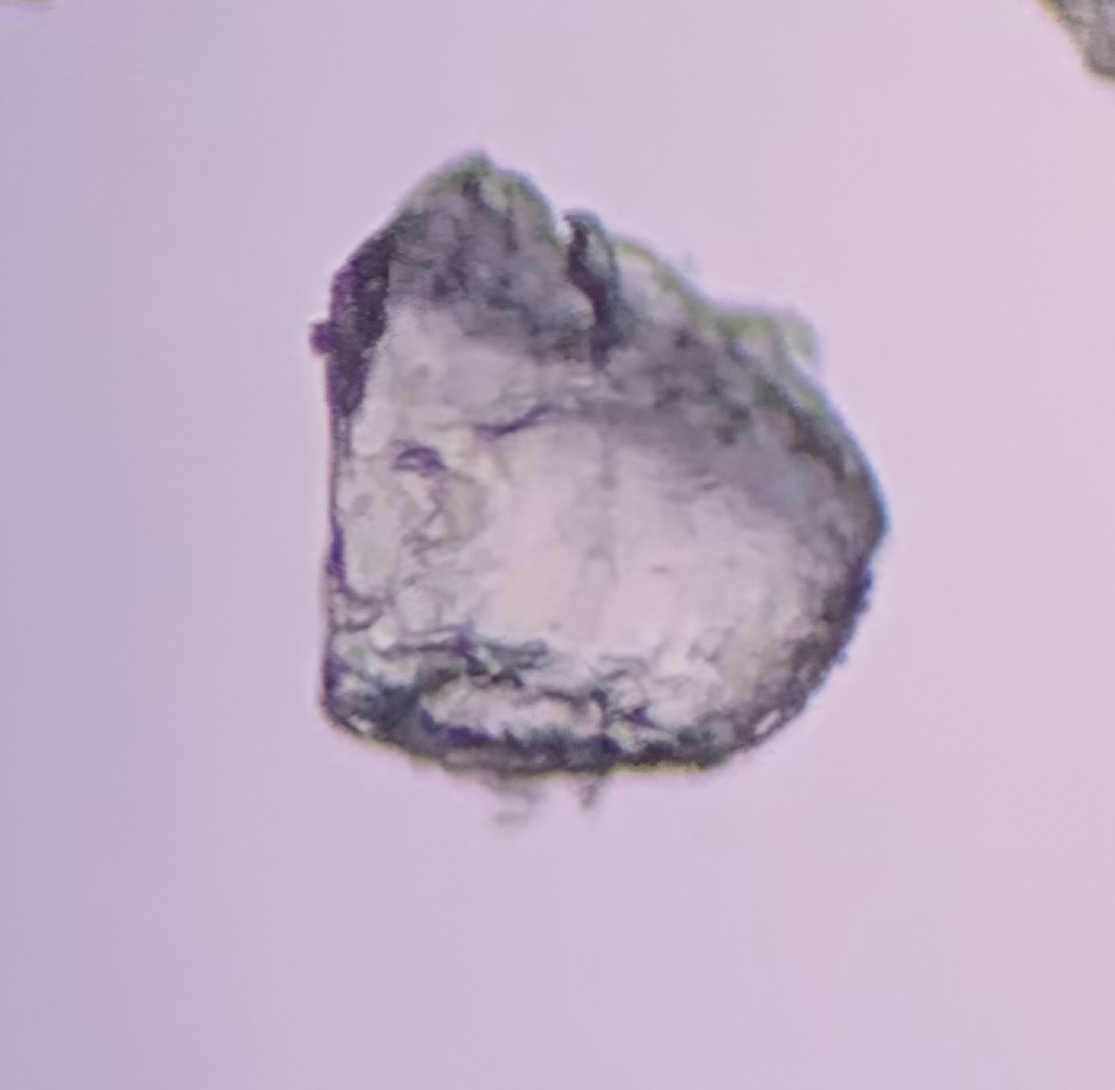microplastic: (311, 146, 890, 838)
